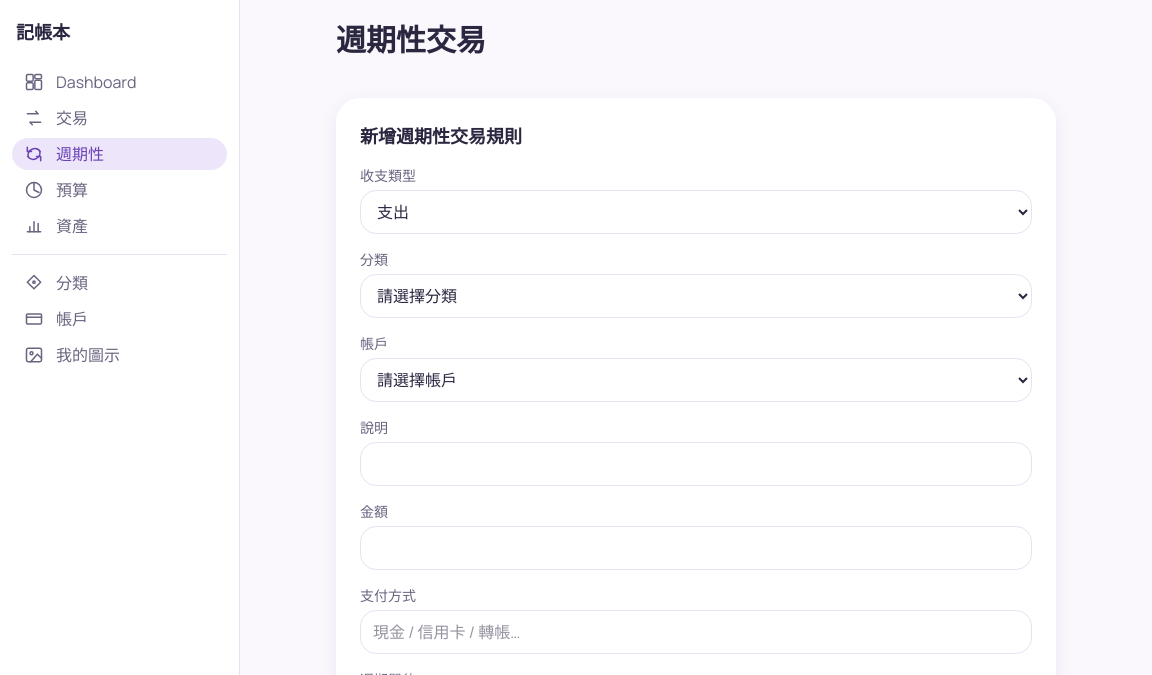
Test case: RecurringRulesPage › 間隔數為 0 時拒絕送出並顯示錯誤訊息
Select "居住" in the dropdown labelled "分類" at (696, 296), box [360, 274, 1032, 318]
Select "銀行帳戶" in the dropdown labelled "帳戶" at (696, 380), box [360, 358, 1032, 402]
Type "房租" into the field labelled "說明" at (696, 464), box [360, 442, 1032, 486]
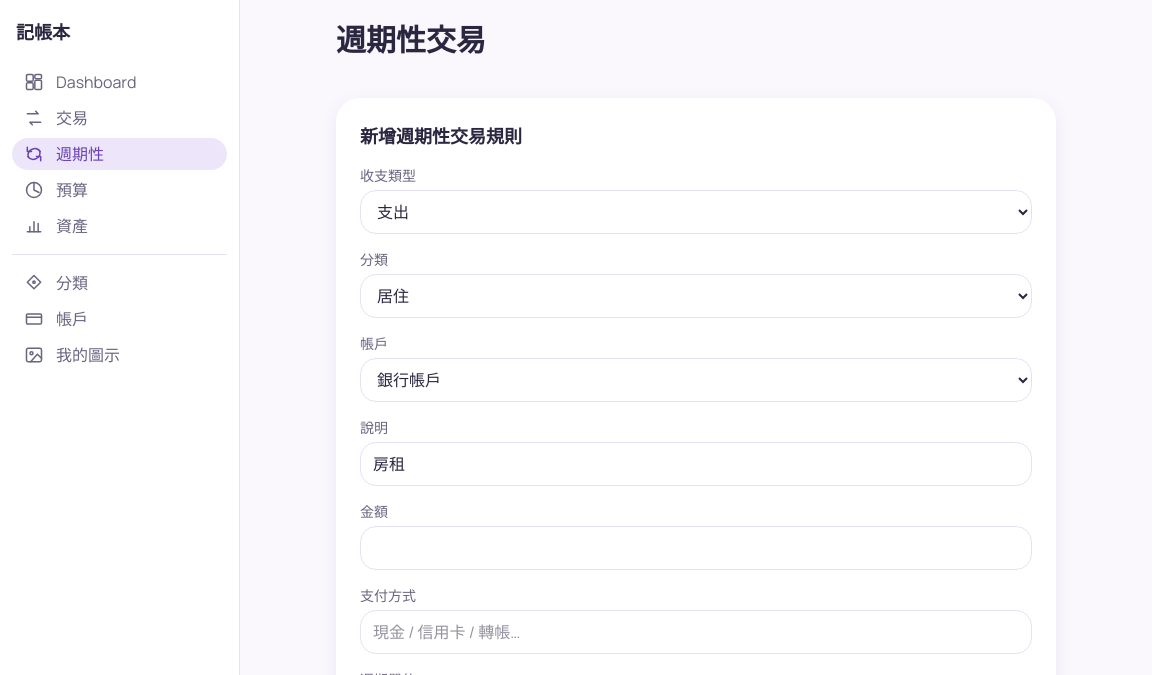
Type "15000" into the field labelled "金額" at (696, 548), box [360, 526, 1032, 570]
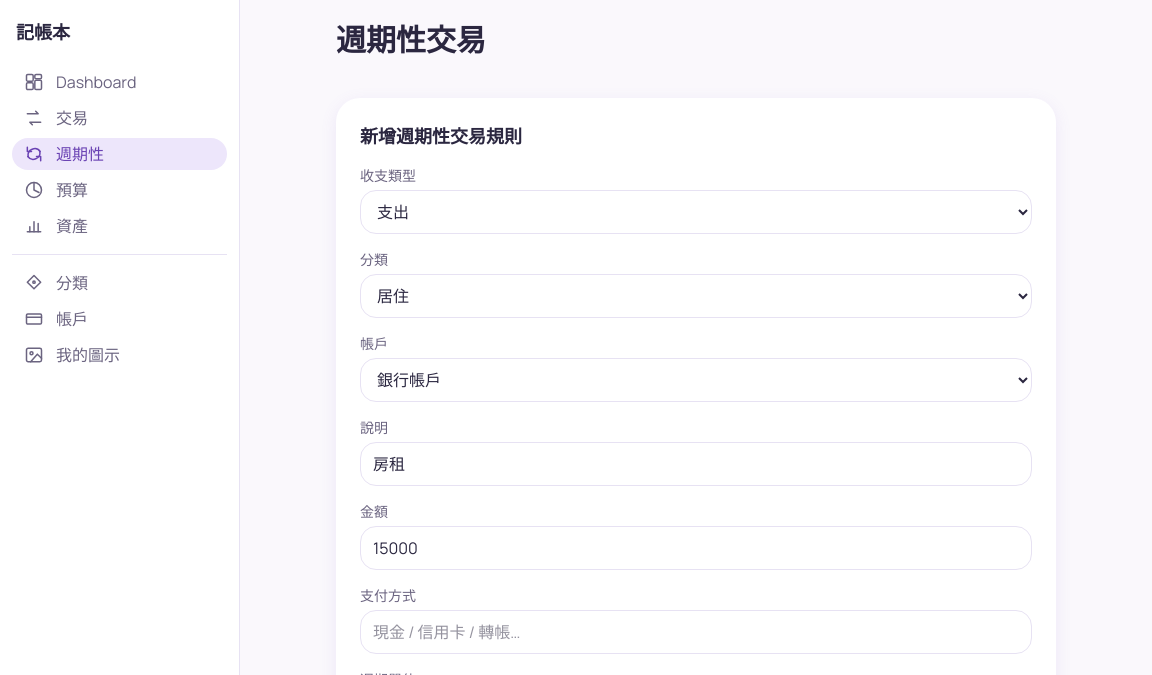
Type "轉帳" into the field labelled "支付方式" at (696, 632), box [360, 610, 1032, 654]
(page scrolled)
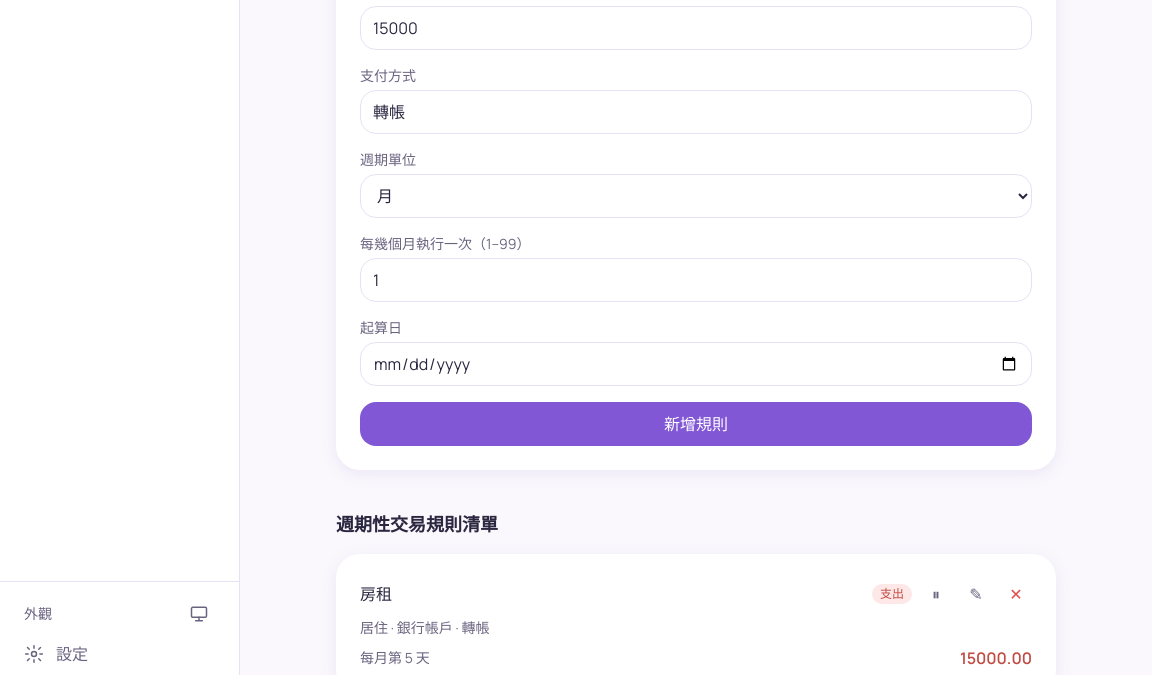
Type "2026-09-05" into the date field labelled "起算日" at (696, 364), box [360, 342, 1032, 386]
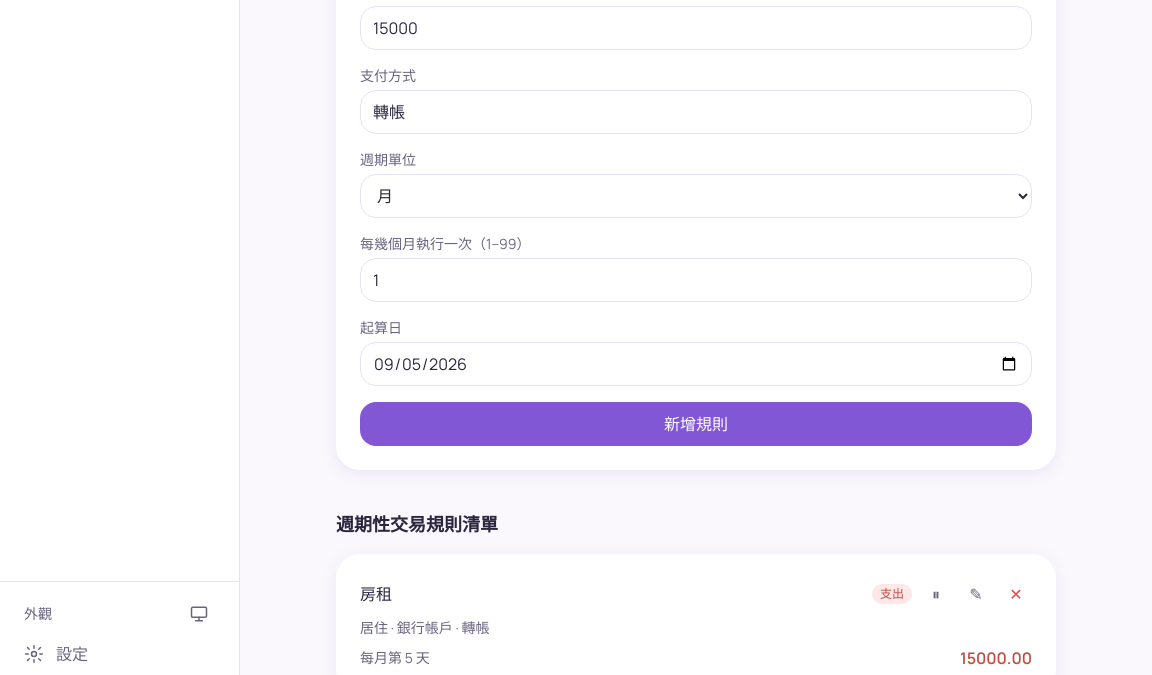
Replace the text in the number field labelled "每幾個月執行一次（1–99）" with "0" at (696, 280), box [360, 258, 1032, 302]
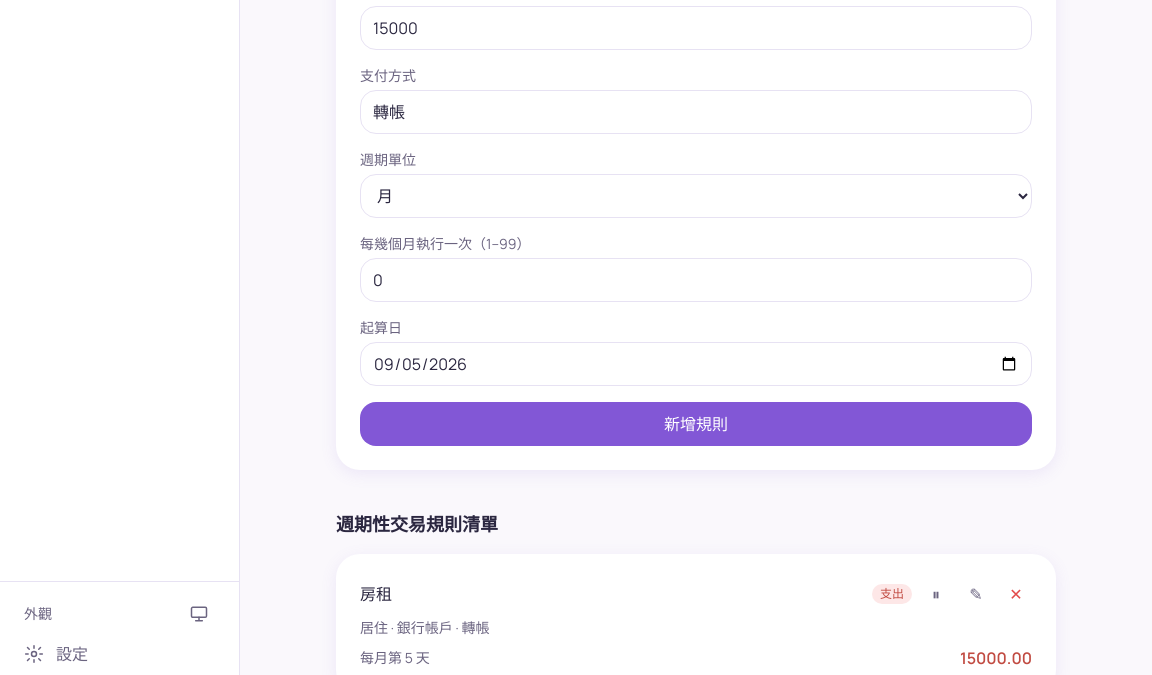
Click the button "新增規則" at (696, 424), box [360, 402, 1032, 446]
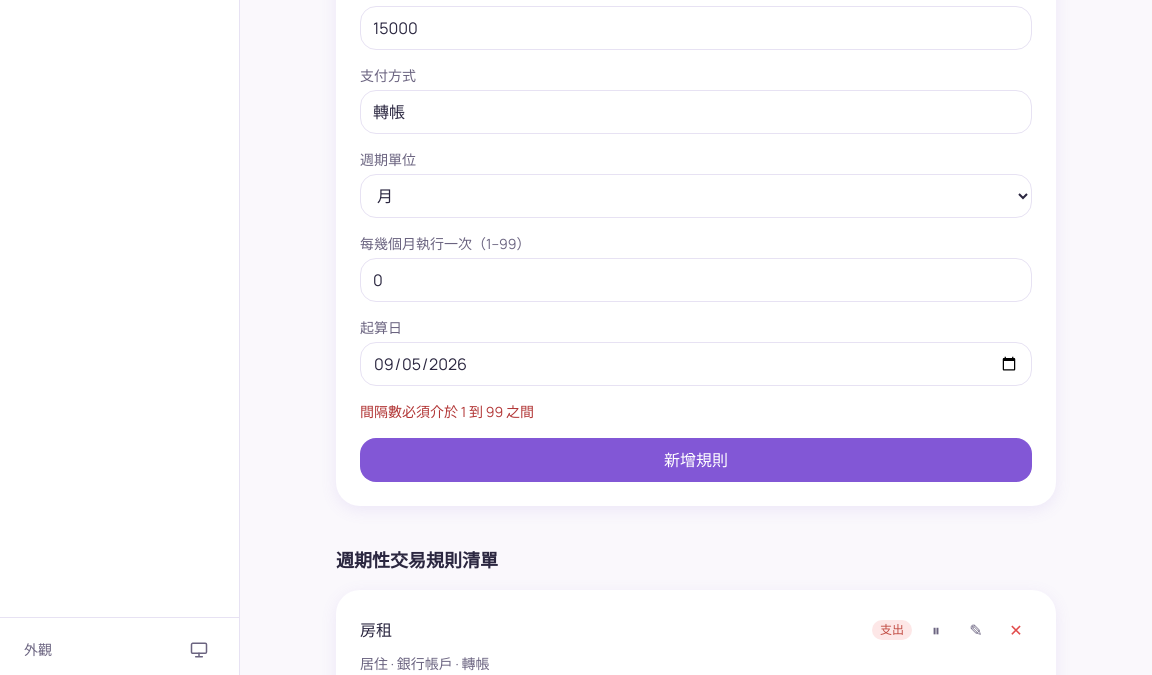
Check: the message reads "間隔數必須介於 1 到 99 之間", box [360, 402, 534, 421]
